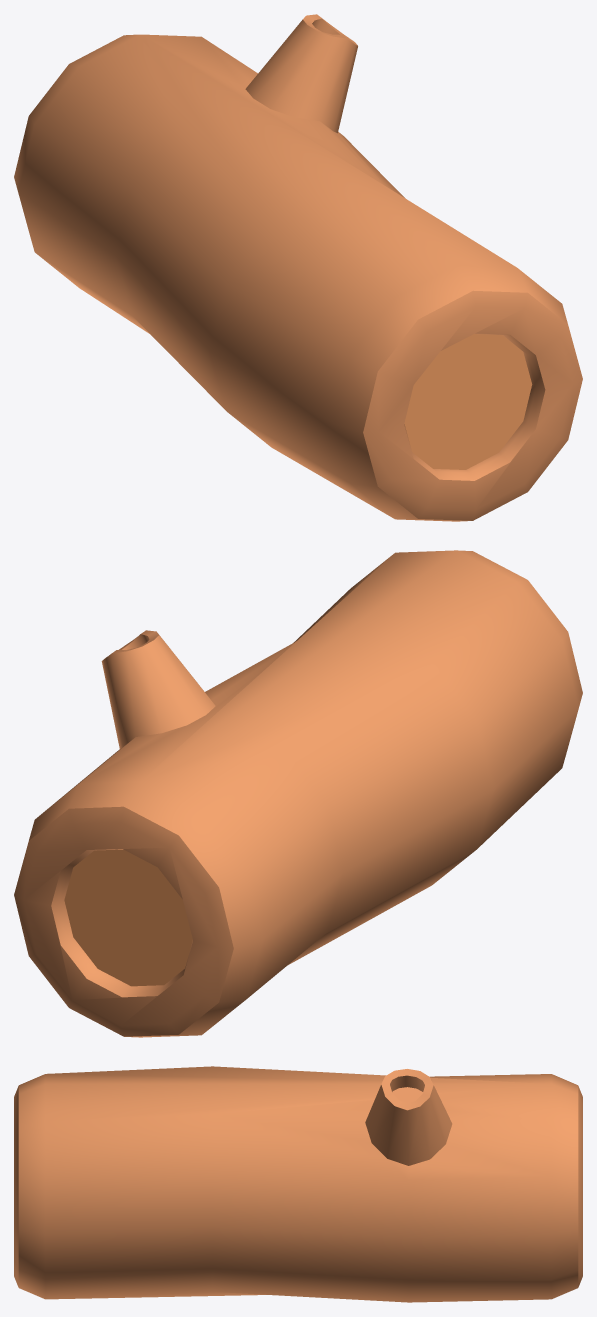
Rendered from Tree_Log.fbx.
3 renders of one model, top to bottom at view 1: azimuth 30°, elevation 25°; view 2: azimuth 150°, elevation 25°; view 3: azimuth 270°, elevation 25°, orthographic. The views are drawn at different scales.
Parts seen in each view (by area): view 1: Tree_Log; view 2: Tree_Log; view 3: Tree_Log.
Part boxes in pixels (x1=…): Tree_Log: x1=14, y1=14, x2=582, y2=521; Tree_Log: x1=14, y1=550, x2=582, y2=1037; Tree_Log: x1=14, y1=1066, x2=582, y2=1302.
Bounding box in the file's own units: 67.13 × 73.76 × 152.
